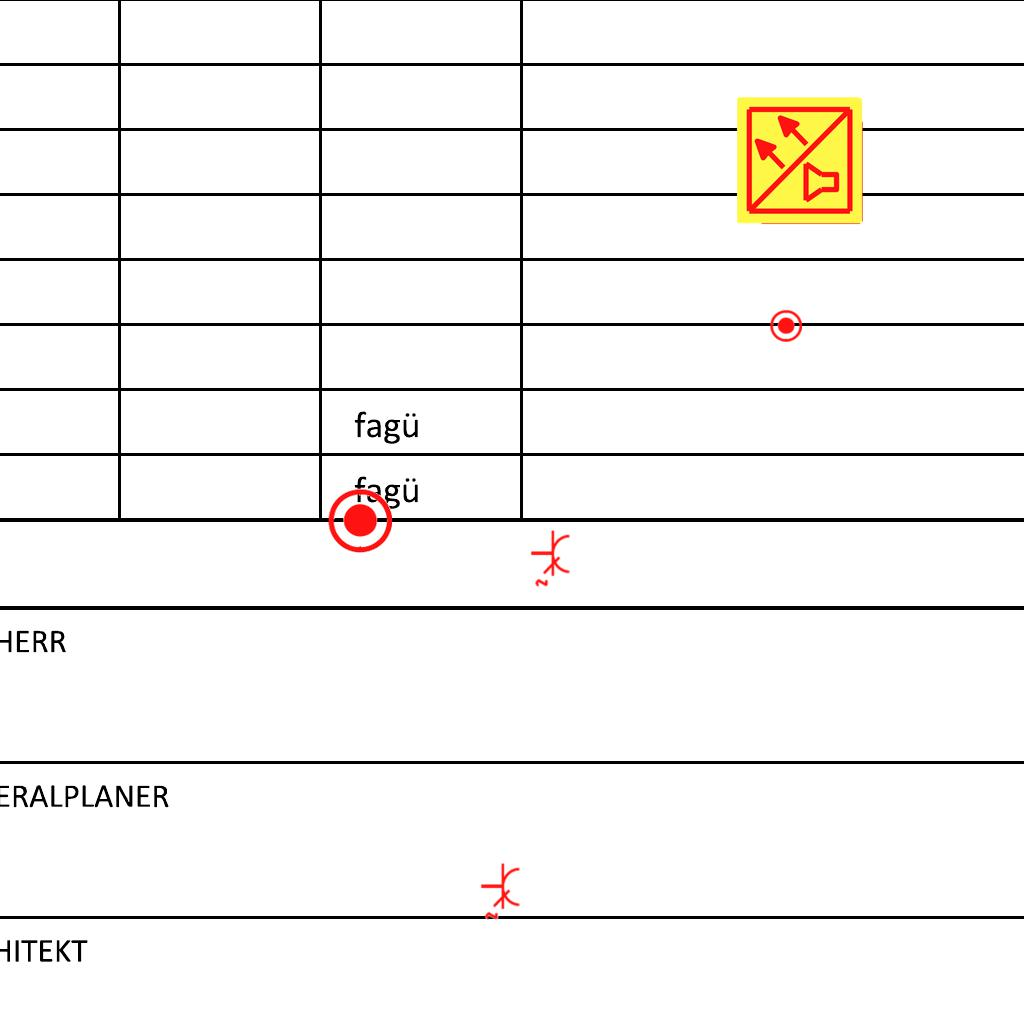OKW_Multisensormelder_(Kombination_optischer_Rauch-Kahlenmonoxid_Waerme-Melder): (734, 94, 866, 226)
Schukosteckdose_mehrfach: (478, 861, 522, 921), (528, 528, 572, 588)
Taster: (326, 487, 392, 553), (769, 309, 802, 342)
